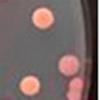pink: (55, 51, 83, 80), (28, 6, 58, 33), (16, 71, 43, 97), (64, 75, 86, 93), (63, 90, 85, 100)
